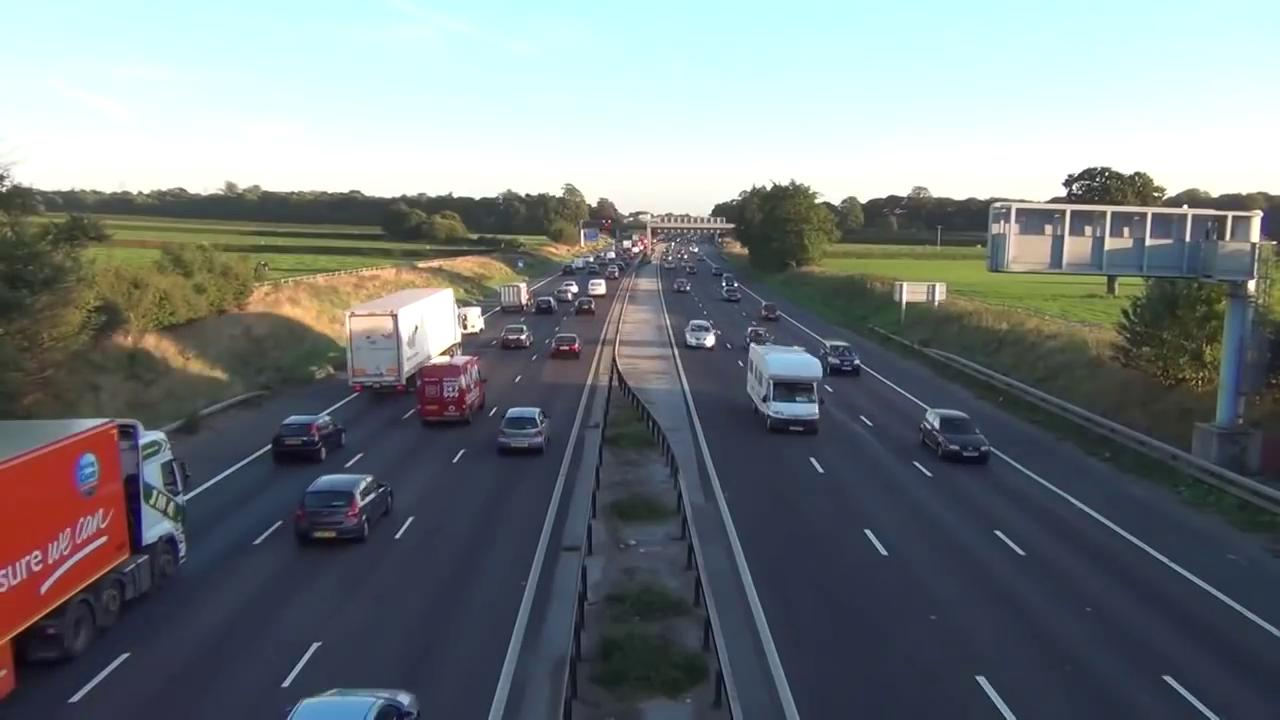bus: (750, 342, 831, 430)
car: (292, 470, 401, 543), (284, 682, 425, 720), (415, 354, 488, 422), (920, 408, 992, 450), (272, 414, 349, 451), (500, 405, 551, 446), (685, 321, 716, 349), (461, 303, 488, 335), (548, 333, 580, 359), (744, 326, 775, 351), (501, 325, 531, 350), (760, 299, 781, 321), (533, 297, 556, 314), (574, 298, 595, 316), (722, 285, 743, 301), (589, 280, 608, 297), (673, 279, 693, 291)
truck: (0, 413, 197, 688), (345, 286, 462, 389), (819, 341, 860, 374), (501, 283, 534, 311)
